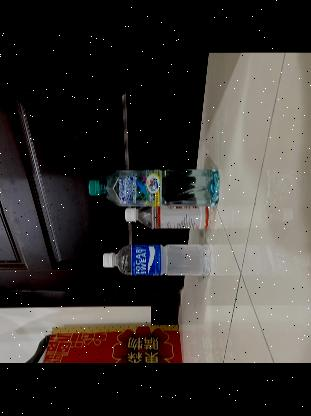Plastic Bottle: (88, 168, 219, 206), (102, 244, 211, 276), (125, 205, 210, 229)
